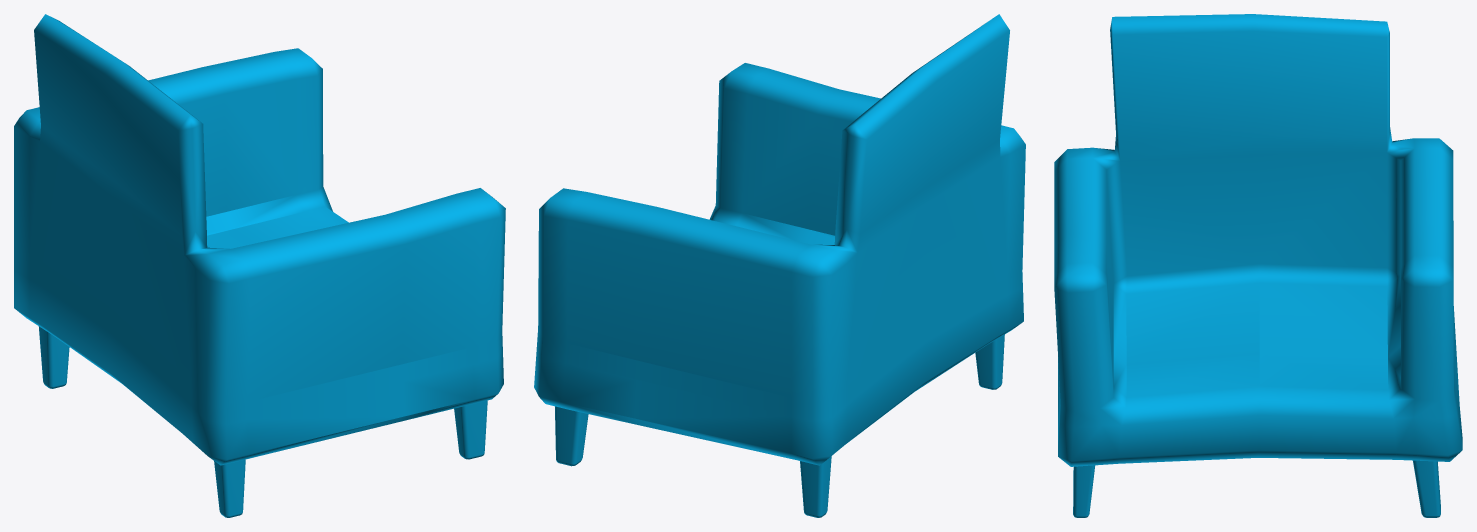
Rendered from Sofa_01_Break_A_Lod0.fbx.
3 renders of one model, left to right at view 1: azimuth 30°, elevation 25°; view 2: azimuth 150°, elevation 25°; view 3: azimuth 270°, elevation 25°, orthographic. The views are drawn at different scales.
Parts seen in each view (by area): view 1: Sofa_01_Break_A_Lod0; view 2: Sofa_01_Break_A_Lod0; view 3: Sofa_01_Break_A_Lod0.
Part boxes in pixels (<box>): Sofa_01_Break_A_Lod0: <box>14,14,505,517</box>; Sofa_01_Break_A_Lod0: <box>534,14,1025,517</box>; Sofa_01_Break_A_Lod0: <box>1054,14,1462,517</box>.
Bounding box in the file's own units: 95.73 × 120 × 117.
